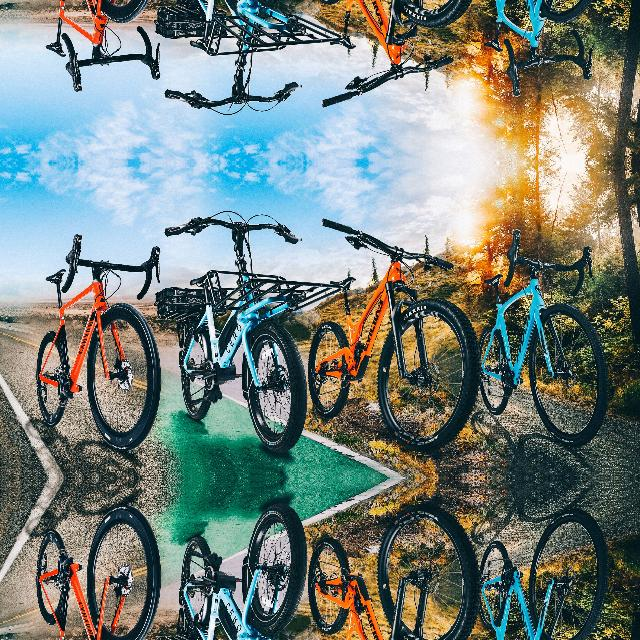obstacle: (312, 198, 476, 470), (162, 217, 318, 451), (476, 195, 618, 448), (32, 238, 162, 456), (312, 484, 475, 640), (162, 503, 317, 640), (312, 0, 475, 125), (475, 506, 618, 640), (475, 0, 618, 129), (32, 498, 161, 640), (162, 0, 317, 107), (32, 0, 161, 85)
